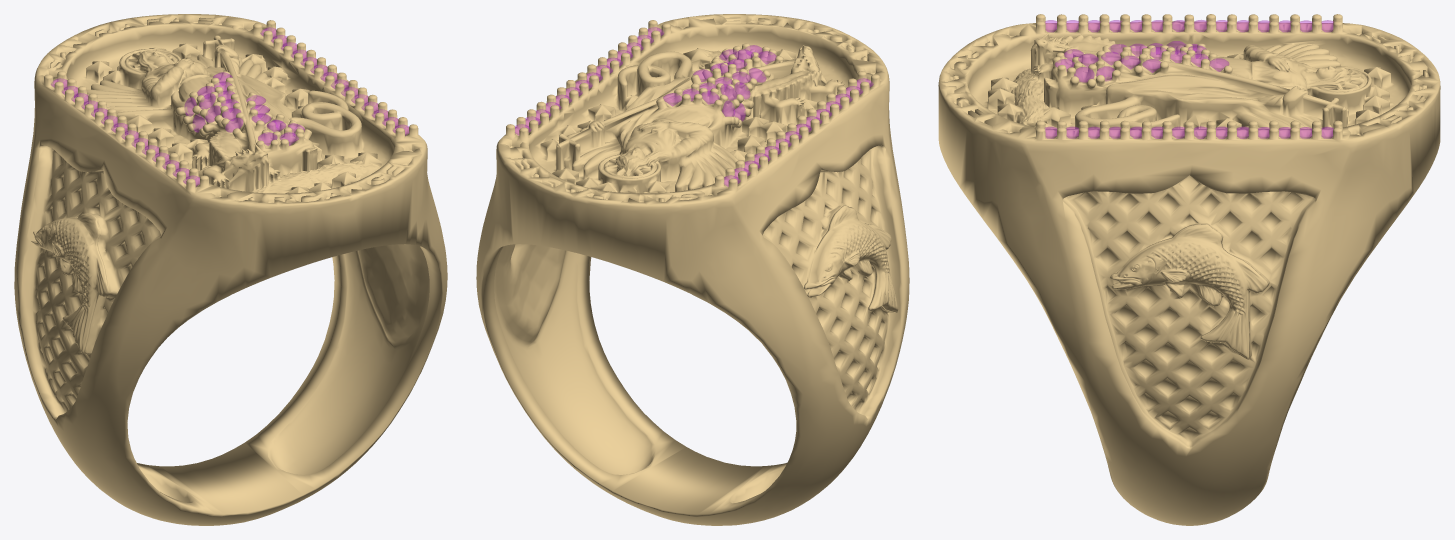
Rendered from Arcangel-ring.glb.
The picture shows the model from 3 angles, left to right: view 1: azimuth 30°, elevation 25°; view 2: azimuth 150°, elevation 25°; view 3: azimuth 270°, elevation 25°; orthographic projection. The views are drawn at different scales.
Visible parts, largest first — view 1: san rafael arcangel Anillo; view 2: san rafael arcangel Anillo; view 3: san rafael arcangel Anillo.
Boxes of the visible parts, <box> form: san rafael arcangel Anillo: <box>14,14,447,525</box>; san rafael arcangel Anillo: <box>476,14,909,525</box>; san rafael arcangel Anillo: <box>938,14,1440,525</box>.
Bounding box in the file's own units: 2.46 × 2.83 × 2.86.
